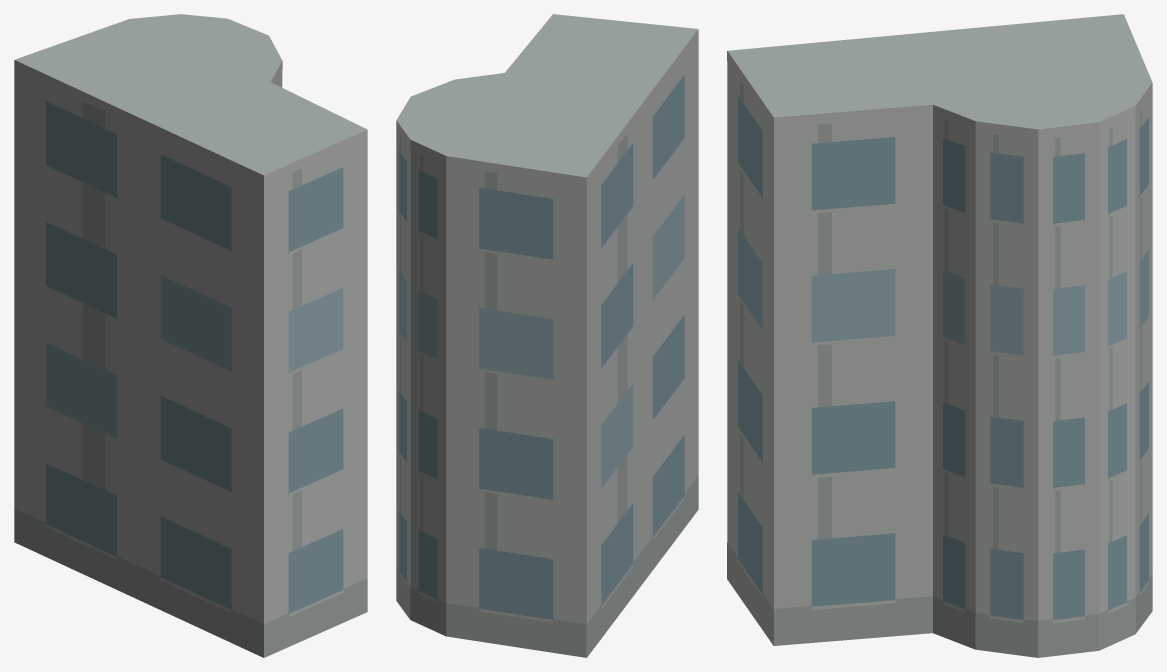
The model's file is survey-upis-32623532.glb.
3 views of the same model, side by side, from view 1: azimuth 30°, elevation 25°; view 2: azimuth 150°, elevation 25°; view 3: azimuth 270°, elevation 25° (orthographic). The views are drawn at different scales.
Visible parts, largest first — view 1: survey-upis-32623532.tmp; view 2: survey-upis-32623532.tmp; view 3: survey-upis-32623532.tmp.
Boxes of the visible parts, x1=… form: survey-upis-32623532.tmp: x1=14, y1=14, x2=367, y2=657; survey-upis-32623532.tmp: x1=396, y1=14, x2=698, y2=657; survey-upis-32623532.tmp: x1=727, y1=14, x2=1152, y2=657.
Bounding box in the file's own units: 5.72 × 12.2 × 8.91.
